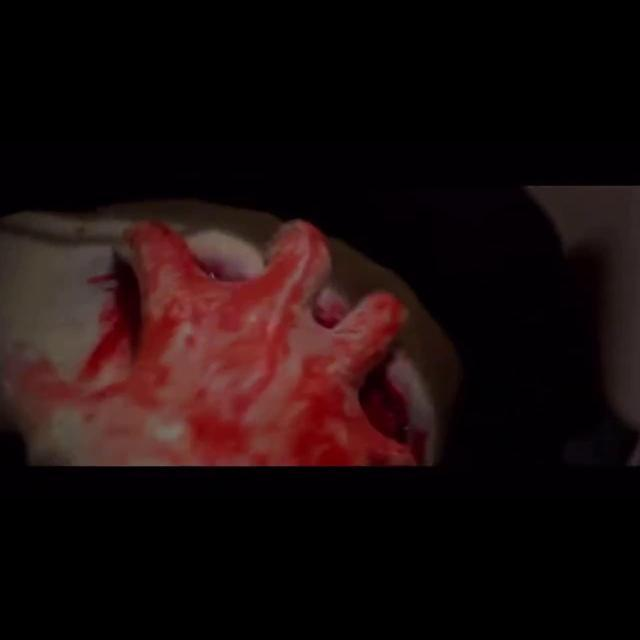blood: (0, 220, 442, 468)
